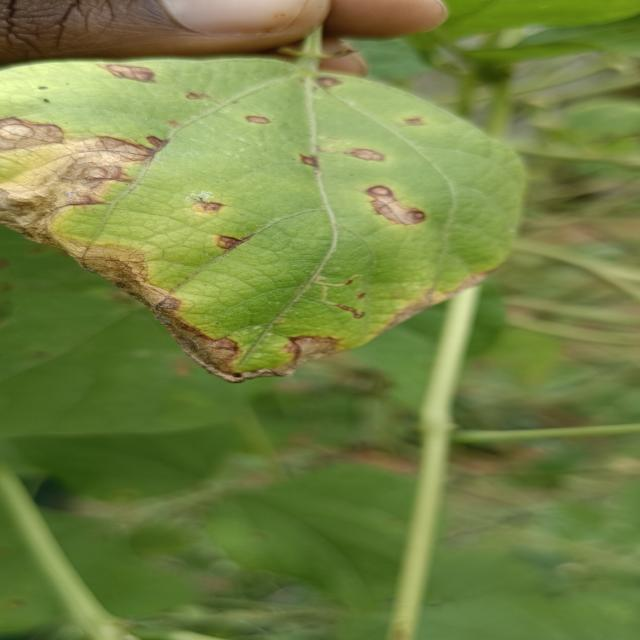Dolicos bean_cercospora leaf spot: (0, 59, 536, 376)
